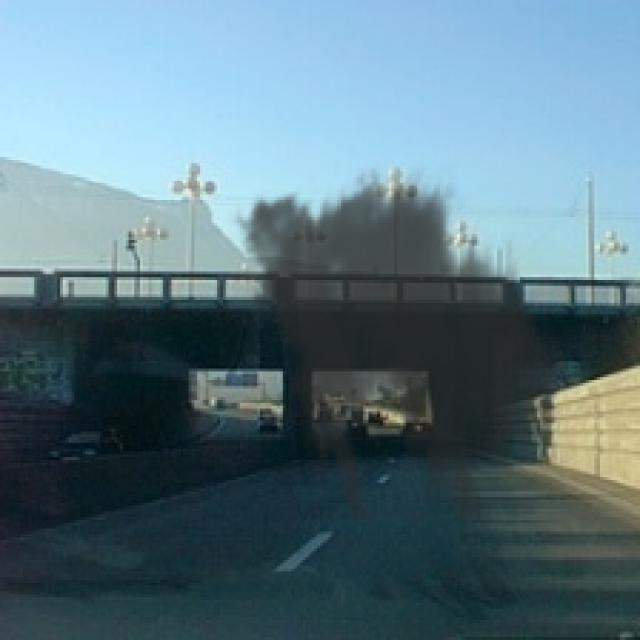Smoke: (225, 163, 578, 520)
